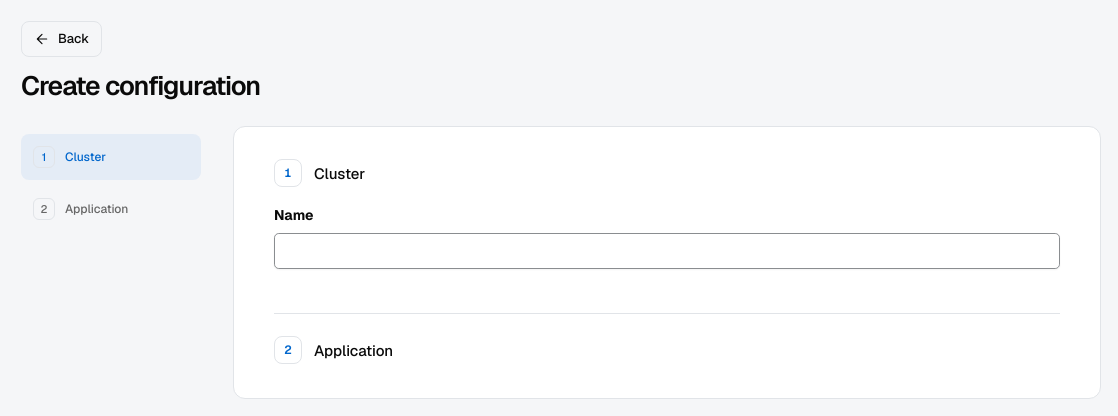
Scenario: Editor presentation › opens long forms as workspace pages and restores the workspace on Back
Check: the navigation bar named "Form sections" is shown, box [21,126,201,240]
Step 1. Click the button "Back" → click(62, 39), box [21,21,102,57]
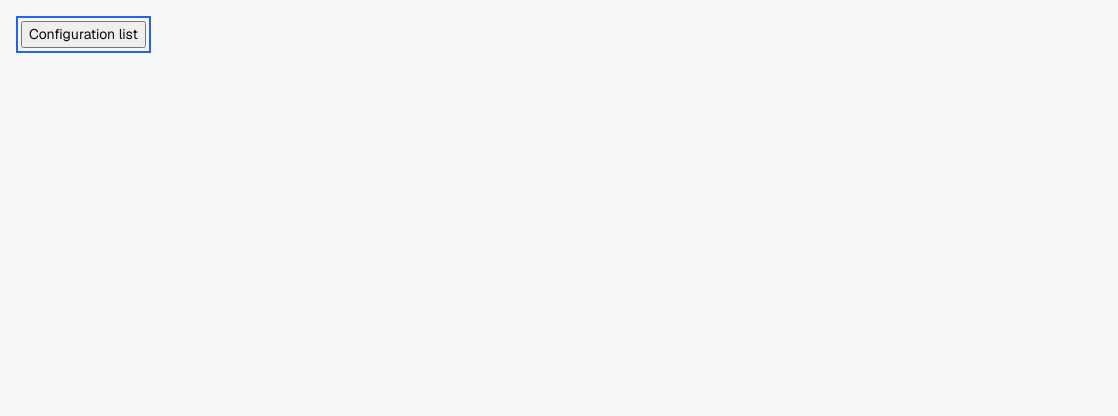
Check: the heading "Create configuration" is gone
